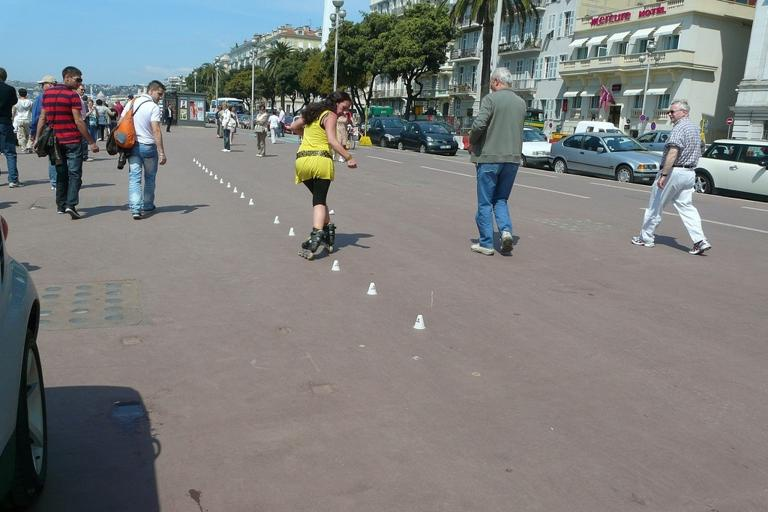non-vehicle: (345, 121, 357, 150), (105, 112, 114, 138)
